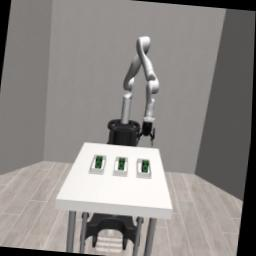cube1: (141, 160, 150, 174)
cube2: (119, 158, 126, 170)
cube3: (95, 155, 104, 169)
